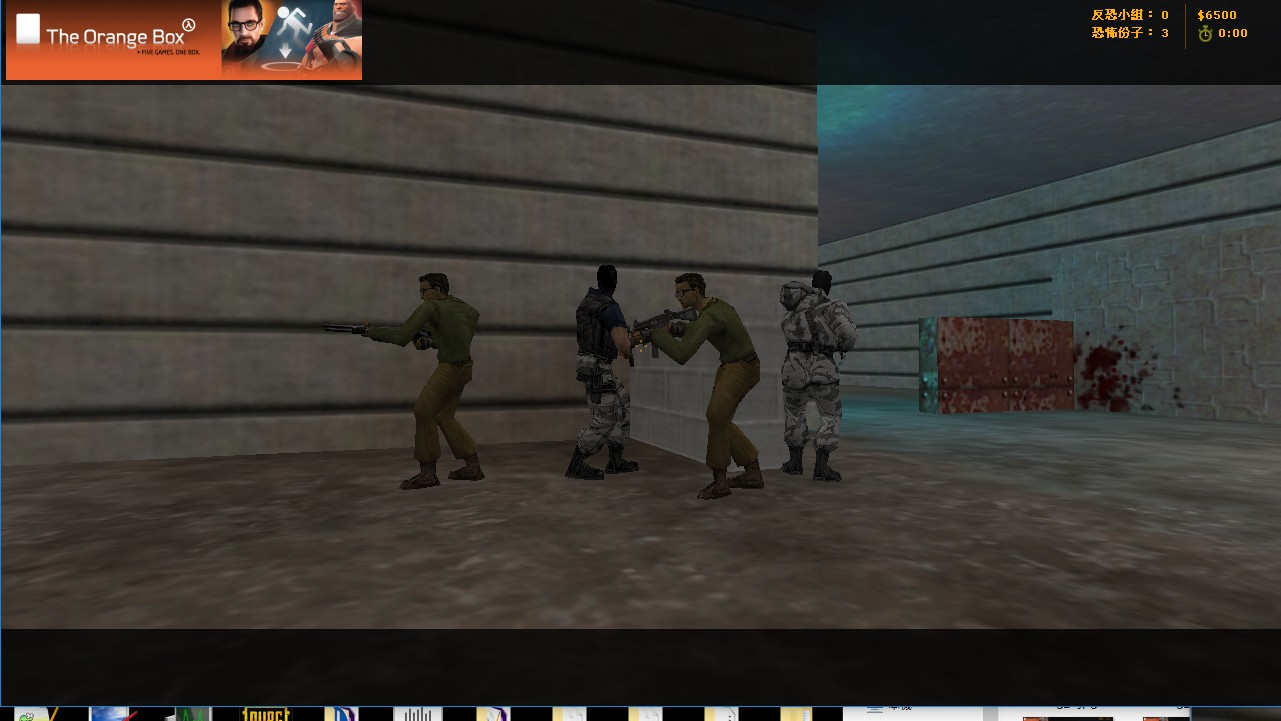person: (660, 261, 764, 500), (382, 263, 488, 490), (550, 245, 645, 484), (771, 268, 874, 481)
